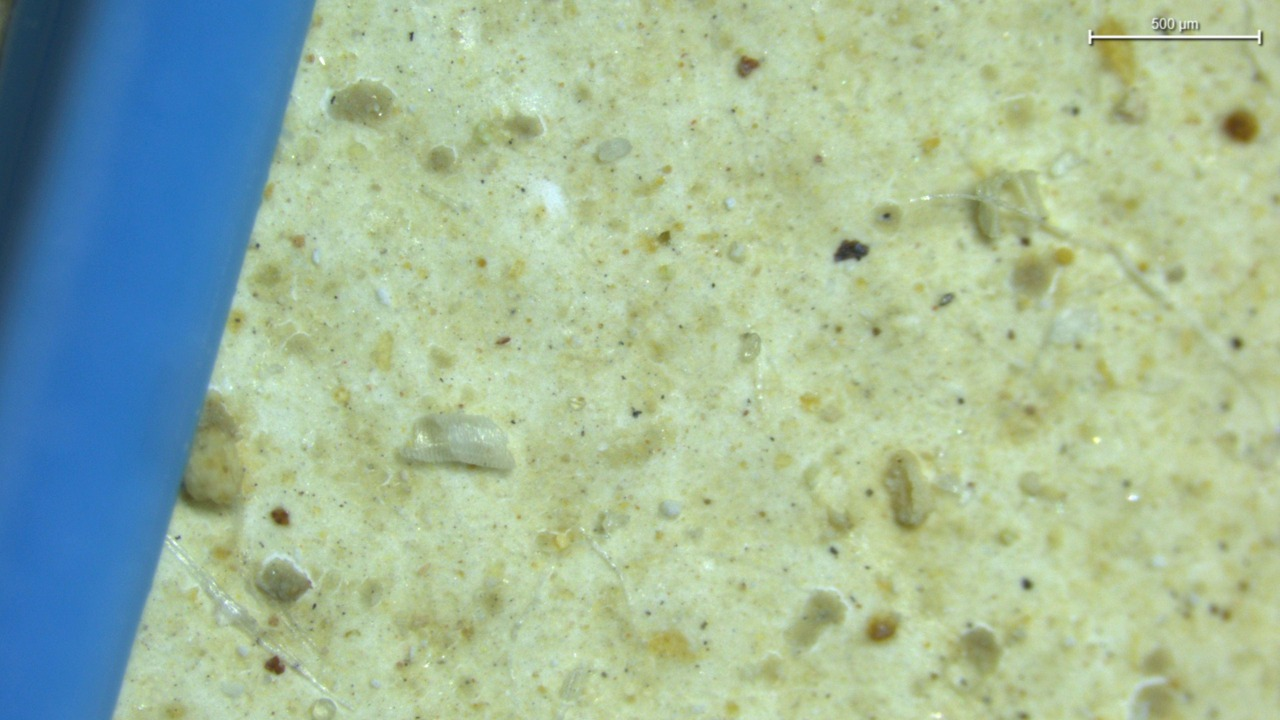microplastic_fragment: (916, 171, 1048, 240), (182, 390, 245, 508), (401, 413, 513, 469), (884, 449, 934, 526), (597, 138, 631, 162)
